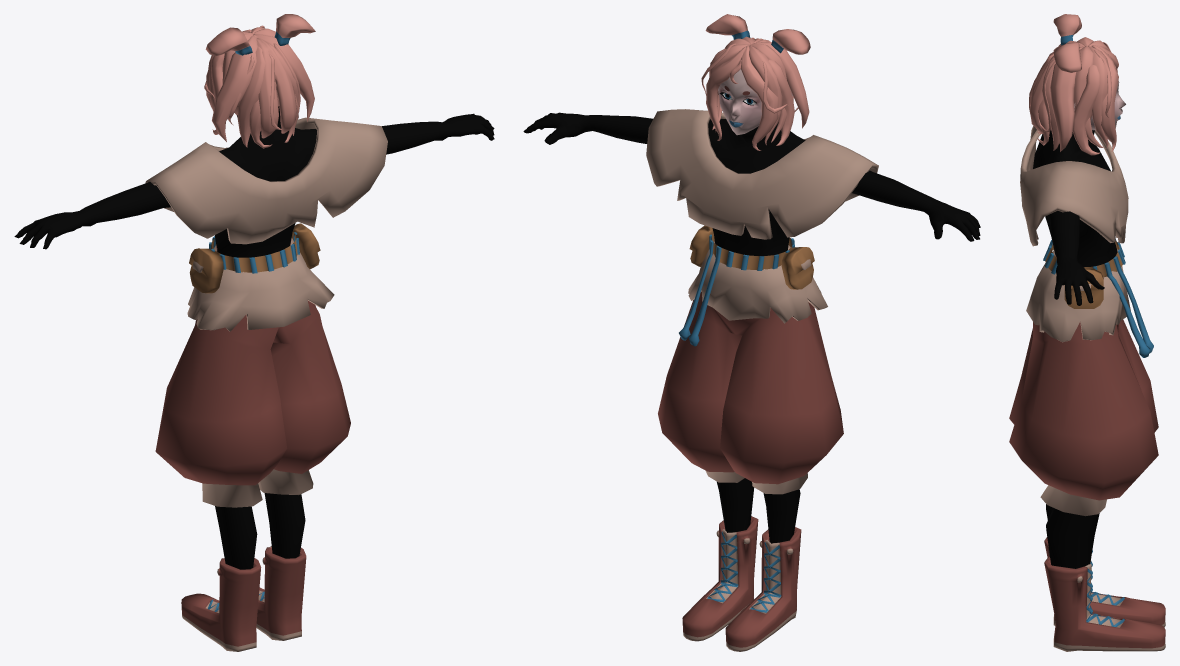
Rendered from mainchara_sub_smooth_notrigged_7.fbx.
The picture shows the model from 3 angles, left to right: view 1: azimuth 30°, elevation 25°; view 2: azimuth 150°, elevation 25°; view 3: azimuth 270°, elevation 25°; orthographic projection. The views are drawn at different scales.
Parts seen in each view (by area): view 1: femBase.005, Plane.007, femBase, BézierCurve.002, femBase.003, femBase.006, Cube.002, Cube.001, Cylinder.001; view 2: femBase.005, Plane.007, femBase, femBase.003, BézierCurve.002, femBase.006, Cylinder.001, Cube.002, Cube.001, femBase.007; view 3: femBase.005, femBase, BézierCurve.002, femBase.003, Plane.007, femBase.006, Cylinder.001, Cube.001, Cube.002, femBase.007.
Part boxes in pixels (x1,y1,x2,y2): femBase.005: (155, 240, 350, 507); Plane.007: (145, 117, 387, 244); femBase: (14, 99, 494, 569); BézierCurve.002: (204, 25, 314, 148); femBase.003: (181, 546, 306, 651); femBase.006: (187, 238, 334, 331); Cube.002: (189, 223, 320, 293); Cube.001: (205, 14, 315, 55); Cylinder.001: (209, 232, 299, 273); femBase.005: (658, 292, 843, 494); Plane.007: (646, 109, 878, 239); femBase: (523, 69, 980, 543); femBase.003: (682, 516, 801, 651); BézierCurve.002: (701, 36, 809, 150); femBase.006: (688, 241, 827, 323); Cylinder.001: (679, 233, 794, 346); Cube.002: (689, 225, 814, 289); Cube.001: (705, 14, 810, 54); femBase.007: (707, 531, 781, 612); femBase.005: (1009, 254, 1158, 516); femBase: (1033, 80, 1125, 568); BézierCurve.002: (1029, 37, 1118, 155); femBase.003: (1044, 537, 1165, 651); Plane.007: (1020, 126, 1128, 246); femBase.006: (1026, 249, 1130, 342); Cylinder.001: (1043, 239, 1153, 357); Cube.001: (1053, 14, 1081, 72); Cube.002: (1064, 268, 1103, 308); femBase.007: (1086, 550, 1124, 626).
Bounding box in the file's own units: 120 × 149 × 34.92.
